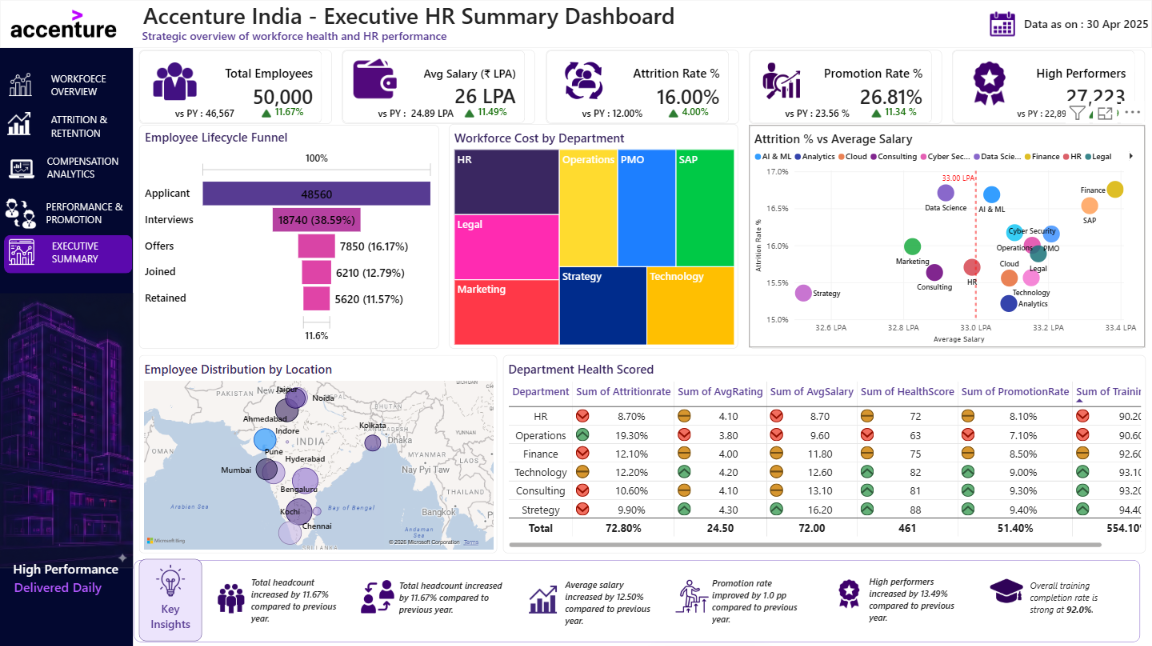

The page's visual inventory and layout, read from the dashboard file:
{"tool":"powerbi","page":{"name":"Executive Summary","canvas":[1920,1080],"ordinal":4},"visuals":[{"type":"shape","box":[0,0,1920,80],"z":0,"group":"g1"},{"type":"group","id":"g1","title":"base","box":[0,0,1919.7,1080.3],"z":0},{"type":"image","box":[16.9,13.8,178.5,52.3],"z":0,"group":"g14"},{"type":"cardVisual","fields":{"Data":["Measure Table.Total Employees"]},"box":[231.8,83.3,321.5,123.1],"z":0,"group":"g2"},{"type":"group","id":"g2","title":"kpi 1","box":[231.8,83.3,321.5,123.1],"z":0,"group":"g17"},{"type":"cardVisual","fields":{"Data":["Measure Table.Avg Salary (₹ LPA)"]},"box":[570.6,83.3,321.5,123.1],"z":0,"group":"g5"},{"type":"cardVisual","fields":{"Data":["Measure Table.Attrition Rate %"]},"box":[909.5,83.3,321.5,123.1],"z":0,"group":"g8"},{"type":"cardVisual","fields":{"Data":["Measure Table.Promotion Rate %"]},"box":[1248.3,83.3,321.5,123.1],"z":0,"group":"g11"},{"type":"cardVisual","fields":{"Data":["Measure Table.High Performers"]},"box":[1587.2,83.3,321.5,123.1],"z":0,"group":"g15"},{"type":"group","id":"g3","title":"Button","box":[6.7,109.2,215.4,346.5],"z":0,"group":"g9"},{"type":"actionButton","title":"Button 1","box":[7,109.2,213.7,64],"z":0,"group":"g3"},{"type":"image","box":[1108.3,180.2,27.7,18.5],"z":0,"group":"g7"},{"type":"image","box":[1807.6,181.9,27.7,18.5],"z":0,"group":"g18"},{"type":"image","box":[9.1,188.1,46.1,38.4],"z":0,"group":"g10"},{"type":"image","box":[9.1,259.4,55.3,46.1],"z":0,"group":"g12"},{"type":"image","box":[9.1,331.4,52.3,52.3],"z":0,"group":"g4"},{"type":"group","id":"g4","title":"PAGE 4","box":[9.1,331.4,207.4,57],"z":0,"group":"g6"},{"type":"image","box":[9.1,399.1,55.3,43],"z":0,"group":"g16"},{"type":"image","box":[0,456.1,221.2,522.7],"z":0,"group":"g13"},{"type":"image","box":[1649.5,942,55.4,87.7],"z":0,"group":"g23"},{"type":"image","box":[1390.2,948.5,50.8,83.1],"z":0,"group":"g22"},{"type":"image","box":[601.5,949.2,55.4,89.2],"z":0,"group":"g20"},{"type":"image","box":[360,950.8,50.8,95.4],"z":0,"group":"g19"},{"type":"image","box":[1124.7,954.3,56.9,76.9],"z":0,"group":"g24"},{"type":"image","box":[881.5,960.3,46.2,78.5],"z":0,"group":"g21"},{"type":"textbox","box":[238.6,0,949.2,56.9],"z":1000,"group":"g14"},{"type":"shape","box":[0,80,221.5,1000],"z":1000,"group":"g1"},{"type":"group","id":"g5","title":"kpi 2","box":[570.6,83.3,321.5,123.1],"z":1000,"group":"g17"},{"type":"image","box":[584.2,95.3,83.1,72.3],"z":1000,"group":"g5"},{"type":"image","box":[247.4,95.6,89.9,72.3],"z":1000,"group":"g2"},{"type":"image","box":[1608.9,99.6,81.8,78.8],"z":1000,"group":"g15"},{"type":"image","box":[1263.9,101.4,78.5,66.2],"z":1000,"group":"g11"},{"type":"group","id":"g6","title":"PAGE 1","box":[9.1,120.7,207.4,267.7],"z":1000,"group":"g9"},{"type":"image","box":[9.1,122.7,50.7,38.4],"z":1000,"group":"g6"},{"type":"group","id":"g7","title":"Group 1","box":[1108.3,175.6,91.6,26.2],"z":1000,"group":"g8"},{"type":"textbox","box":[1136,175.6,64,26.2],"z":1000,"group":"g7"},{"type":"textbox","box":[1835.3,177.3,64,26.2],"z":1000,"group":"g18"},{"type":"actionButton","title":"Button 2","box":[8.4,181.7,213.7,64],"z":1000,"group":"g3"},{"type":"textbox","box":[85.8,190.3,119.2,56.7],"z":1000,"group":"g10"},{"type":"textbox","box":[79.8,257.7,141.4,63],"z":1000,"group":"g12"},{"type":"textbox","box":[78.2,334.6,138.4,53.8],"z":1000,"group":"g4"},{"type":"textbox","box":[87.8,399.4,119.2,56.7],"z":1000,"group":"g16"},{"type":"textbox","box":[21.5,932.9,195.4,35.4],"z":1000,"group":"g13"},{"type":"textbox","box":[1449.2,958.4,170.8,87.7],"z":1000,"group":"g22"},{"type":"textbox","box":[418.6,960.2,166.2,83.1],"z":1000,"group":"g19"},{"type":"textbox","box":[1186.7,960.5,157.1,98.5],"z":1000,"group":"g24"},{"type":"textbox","box":[941.5,963.6,157.1,98.5],"z":1000,"group":"g21"},{"type":"textbox","box":[665.3,964.2,180,83.1],"z":1000,"group":"g20"},{"type":"textbox","box":[1716,964.5,153.8,87.7],"z":1000,"group":"g23"},{"type":"textbox","box":[237.6,46.2,784.6,33.8],"z":2000,"group":"g14"},{"type":"group","id":"g8","title":"kpi 3","box":[909.5,83.3,321.5,123.1],"z":2000,"group":"g17"},{"type":"image","box":[938.7,95.3,64.6,78.5],"z":2000,"group":"g8"},{"type":"group","id":"g9","title":"pages","box":[6.7,109.2,215.4,346.8],"z":2000},{"type":"textbox","box":[85.7,120.7,119.2,56.7],"z":2000,"group":"g6"},{"type":"textbox","box":[292.3,177.1,131.4,26.2],"z":2000,"group":"g2"},{"type":"textbox","box":[631.1,177.1,131.4,26.2],"z":2000,"group":"g5"},{"type":"textbox","box":[1308.8,177.1,131.4,26.2],"z":2000,"group":"g11"},{"type":"textbox","box":[1695.2,178.4,112.1,22.7],"z":2000,"group":"g15"},{"type":"group","id":"g10","title":"PAGE 2","box":[9.1,188.1,196,58.9],"z":2000,"group":"g9"},{"type":"actionButton","title":"Button 3","box":[6.7,250,213.7,64],"z":2000,"group":"g3"},{"type":"textbox","box":[22.7,962.2,178.8,33.3],"z":2000,"group":"g13"},{"type":"image","box":[1650.7,18.5,41.5,43.1],"z":3000,"group":"g14"},{"type":"group","id":"g11","title":"kpi 4","box":[1248.3,83.3,321.5,123.1],"z":3000,"group":"g17"},{"type":"textbox","box":[970,177.1,131.4,26.2],"z":3000,"group":"g8"},{"type":"image","box":[430.6,180.2,27.7,18.5],"z":3000,"group":"g2"},{"type":"image","box":[769.4,180.2,27.7,18.5],"z":3000,"group":"g5"},{"type":"image","box":[1447.1,180.2,27.7,18.5],"z":3000,"group":"g11"},{"type":"group","id":"g12","title":"PAGE 3","box":[9.1,257.7,212.2,63],"z":3000,"group":"g9"},{"type":"actionButton","title":"Button 4","box":[6.7,320,213.7,64],"z":3000,"group":"g3"},{"type":"group","id":"g13","title":"left side pic","box":[0,456.1,221.2,539.4],"z":3000},{"type":"group","id":"g14","title":"header section","box":[16.9,0,1903.1,80],"z":4000},{"type":"textbox","box":[1706.1,26.2,213.8,30.8],"z":4000,"group":"g14"},{"type":"group","id":"g15","title":"kpi 4","box":[1587.2,83.3,321.5,123.1],"z":4000,"group":"g17"},{"type":"textbox","box":[458.3,175.6,64,26.2],"z":4000,"group":"g2"},{"type":"textbox","box":[797.1,175.6,64,26.2],"z":4000,"group":"g5"},{"type":"textbox","box":[1474.8,175.6,64,26.2],"z":4000,"group":"g11"},{"type":"actionButton","title":"Button 5","box":[6.7,391.7,213.7,64],"z":4000,"group":"g3"},{"type":"group","id":"g16","title":"PAGE 5","box":[9.1,399.1,197.9,57],"z":4000,"group":"g9"},{"type":"group","id":"g17","title":"KPI","box":[231.8,83.3,1677.3,122.7],"z":5000},{"type":"group","id":"g18","title":"Group 1","box":[1807.6,177.3,92.4,25.8],"z":6000},{"type":"funnel","title":"Employee Lifecycle Funnel","fields":{"Category":["LifecycleFunnel.Stage"],"Y":["Sum(LifecycleFunnel.Headcount)"]},"box":[231.8,207.6,500,372.7],"z":7000},{"type":"treemap","title":"Workforce Cost by Department ","fields":{"Group":["DimDepartment.DepartmentName"],"Values":["Measure Table.Payroll PY (₹ Cr)"]},"box":[748.5,206.1,481.8,374.2],"z":8000},{"type":"scatterChart","title":"Attrition % vs Average Salary","fields":{"Category":["DimDepartment.DepartmentName"],"Series":["DimDepartment.DepartmentName"],"X":["Measure Table.Average Salary"],"Y":["Measure Table.Attrition Rate %"]},"box":[1248.5,207.6,660.6,372.7],"z":9000},{"type":"map","title":"Employee Distribution by Location","fields":{"Category":["DimLocation.City"],"Series":["DimLocation.City"],"Size":["Measure Table.Total Employees"]},"box":[231.8,592.4,597,330.3],"z":10000},{"type":"tableEx","title":"Department Health Scored","fields":{"Values":["DeptHealthScorecard.Department","Sum(DeptHealthScorecard.Attritionrate)","Sum(DeptHealthScorecard.AvgRating)","Sum(DeptHealthScorecard.AvgSalary)","Sum(DeptHealthScorecard.HealthScore)","Sum(DeptHealthScorecard.PromotionRate)","Sum(DeptHealthScorecard.TrainingComp)"]},"box":[837.9,592.4,1071.2,330.3],"z":11000},{"type":"shape","box":[223.1,933.8,1676.9,136.9],"z":12000},{"type":"shape","box":[232.3,932.3,104.6,136.9],"z":13000},{"type":"image","box":[255.4,938.5,58.5,58.5],"z":14000},{"type":"textbox","box":[238.5,1001.5,86.2,56.9],"z":15000},{"type":"group","id":"g19","title":"Group 2","box":[360,950.8,224.6,95.4],"z":16000},{"type":"group","id":"g20","title":"Group 2","box":[601.5,949.2,243.8,98.1],"z":17000},{"type":"group","id":"g21","title":"Group 2","box":[881.5,960.3,217.1,101.8],"z":18000},{"type":"group","id":"g22","title":"Group 2","box":[1390.2,948.5,229.8,97.6],"z":19000},{"type":"group","id":"g23","title":"Group 2","box":[1649.5,942,220.3,110.2],"z":20000},{"type":"group","id":"g24","title":"Group 2","box":[1124.7,954.3,219.1,104.6],"z":21000}]}

Visuals, with their boxes on the page's 1920x1080 design canvas (x1, y1, x2, y2). These are canvas units, not pixel positions in the 1152x646 screenshot, which may show the page scaled, cropped or inside an application window:
shape: 0 0 1920 80
"base" group: 0 0 1920 1080
image: 17 14 195 66
cardVisual - Measure Table.Total Employees: 232 83 553 206
"kpi 1" group: 232 83 553 206
cardVisual - Measure Table.Avg Salary (₹ LPA): 571 83 892 206
cardVisual - Measure Table.Attrition Rate %: 910 83 1231 206
cardVisual - Measure Table.Promotion Rate %: 1248 83 1570 206
cardVisual - Measure Table.High Performers: 1587 83 1909 206
"Button" group: 7 109 222 456
"Button 1" actionButton: 7 109 221 173
image: 1108 180 1136 199
image: 1808 182 1835 200
image: 9 188 55 226
image: 9 259 64 306
image: 9 331 61 384
"PAGE 4" group: 9 331 216 388
image: 9 399 64 442
image: 0 456 221 979
image: 1650 942 1705 1030
image: 1390 948 1441 1032
image: 602 949 657 1038
image: 360 951 411 1046
image: 1125 954 1182 1031
image: 882 960 928 1039
textbox: 239 0 1188 57
shape: 0 80 222 1080
"kpi 2" group: 571 83 892 206
image: 584 95 667 168
image: 247 96 337 168
image: 1609 100 1691 178
image: 1264 101 1342 168
"PAGE 1" group: 9 121 216 388
image: 9 123 60 161
"Group 1" group: 1108 176 1200 202
textbox: 1136 176 1200 202
textbox: 1835 177 1899 204
"Button 2" actionButton: 8 182 222 246
textbox: 86 190 205 247
textbox: 80 258 221 321
textbox: 78 335 217 388
textbox: 88 399 207 456
textbox: 22 933 217 968
textbox: 1449 958 1620 1046
textbox: 419 960 585 1043
textbox: 1187 960 1344 1059
textbox: 942 964 1099 1062
textbox: 665 964 845 1047
textbox: 1716 964 1870 1052
textbox: 238 46 1022 80
"kpi 3" group: 910 83 1231 206
image: 939 95 1003 174
"pages" group: 7 109 222 456
textbox: 86 121 205 177
textbox: 292 177 424 203
textbox: 631 177 762 203
textbox: 1309 177 1440 203
textbox: 1695 178 1807 201
"PAGE 2" group: 9 188 205 247
"Button 3" actionButton: 7 250 220 314
textbox: 23 962 202 996
image: 1651 18 1692 62
"kpi 4" group: 1248 83 1570 206
textbox: 970 177 1101 203
image: 431 180 458 199
image: 769 180 797 199
image: 1447 180 1475 199
"PAGE 3" group: 9 258 221 321
"Button 4" actionButton: 7 320 220 384
"left side pic" group: 0 456 221 996
"header section" group: 17 0 1920 80
textbox: 1706 26 1920 57
"kpi 4" group: 1587 83 1909 206
textbox: 458 176 522 202
textbox: 797 176 861 202
textbox: 1475 176 1539 202
"Button 5" actionButton: 7 392 220 456
"PAGE 5" group: 9 399 207 456
"KPI" group: 232 83 1909 206
"Group 1" group: 1808 177 1900 203
"Employee Lifecycle Funnel" funnel: 232 208 732 580
"Workforce Cost by Department " treemap: 748 206 1230 580
"Attrition % vs Average Salary" scatterChart: 1248 208 1909 580
"Employee Distribution by Location" map: 232 592 829 923
"Department Health Scored" tableEx: 838 592 1909 923
shape: 223 934 1900 1071
shape: 232 932 337 1069
image: 255 938 314 997
textbox: 238 1002 325 1058
"Group 2" group: 360 951 585 1046
"Group 2" group: 602 949 845 1047
"Group 2" group: 882 960 1099 1062
"Group 2" group: 1390 948 1620 1046
"Group 2" group: 1650 942 1870 1052
"Group 2" group: 1125 954 1344 1059
